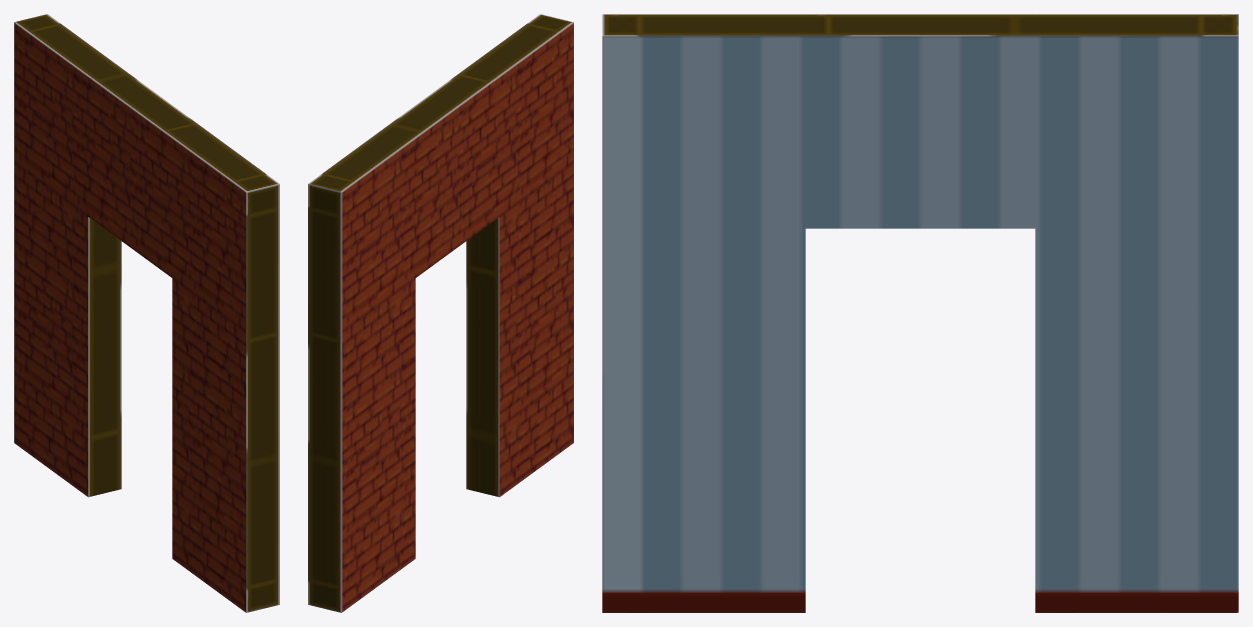
The model's file is Wall_Door_04.fbx.
3 renders of one model, left to right at view 1: azimuth 30°, elevation 25°; view 2: azimuth 150°, elevation 25°; view 3: azimuth 270°, elevation 25°, orthographic. The views are drawn at different scales.
Parts seen in each view (by area): view 1: Wall_Door_04; view 2: Wall_Door_04; view 3: Wall_Door_04.
Boxes of the visible parts, x1,y1,x2,y2 form: Wall_Door_04: (14, 14, 279, 612); Wall_Door_04: (308, 14, 573, 612); Wall_Door_04: (602, 14, 1238, 612).
Bounding box in the file's own units: 50 × 600 × 600.
